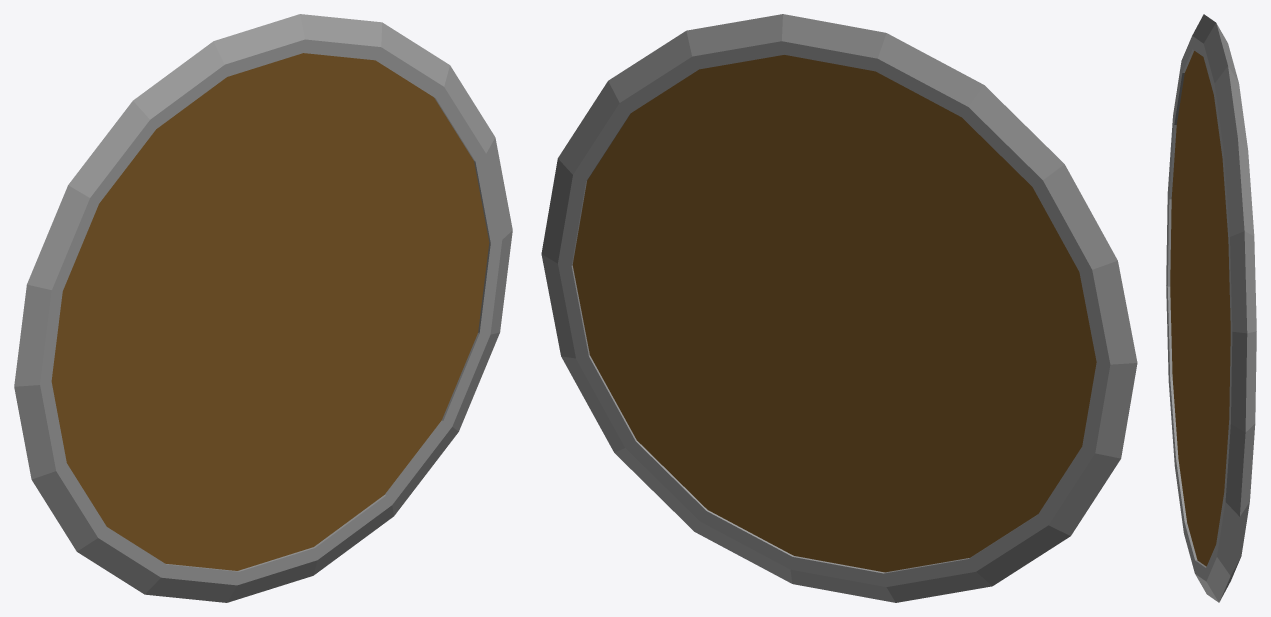
Rendered from Shield.glb.
The picture shows the model from 3 angles, left to right: view 1: azimuth 30°, elevation 25°; view 2: azimuth 150°, elevation 25°; view 3: azimuth 270°, elevation 25°; orthographic projection. The views are drawn at different scales.
Parts seen in each view (by area): view 1: Circle; view 2: Circle; view 3: Circle.
Boxes of the visible parts, left/top/right/bottom form: Circle: left=14, top=14, right=512, bottom=602; Circle: left=541, top=14, right=1137, bottom=602; Circle: left=1166, top=14, right=1256, bottom=602.
Size of the model in its own units: 0.6827 by 0.6764 by 0.1054.
